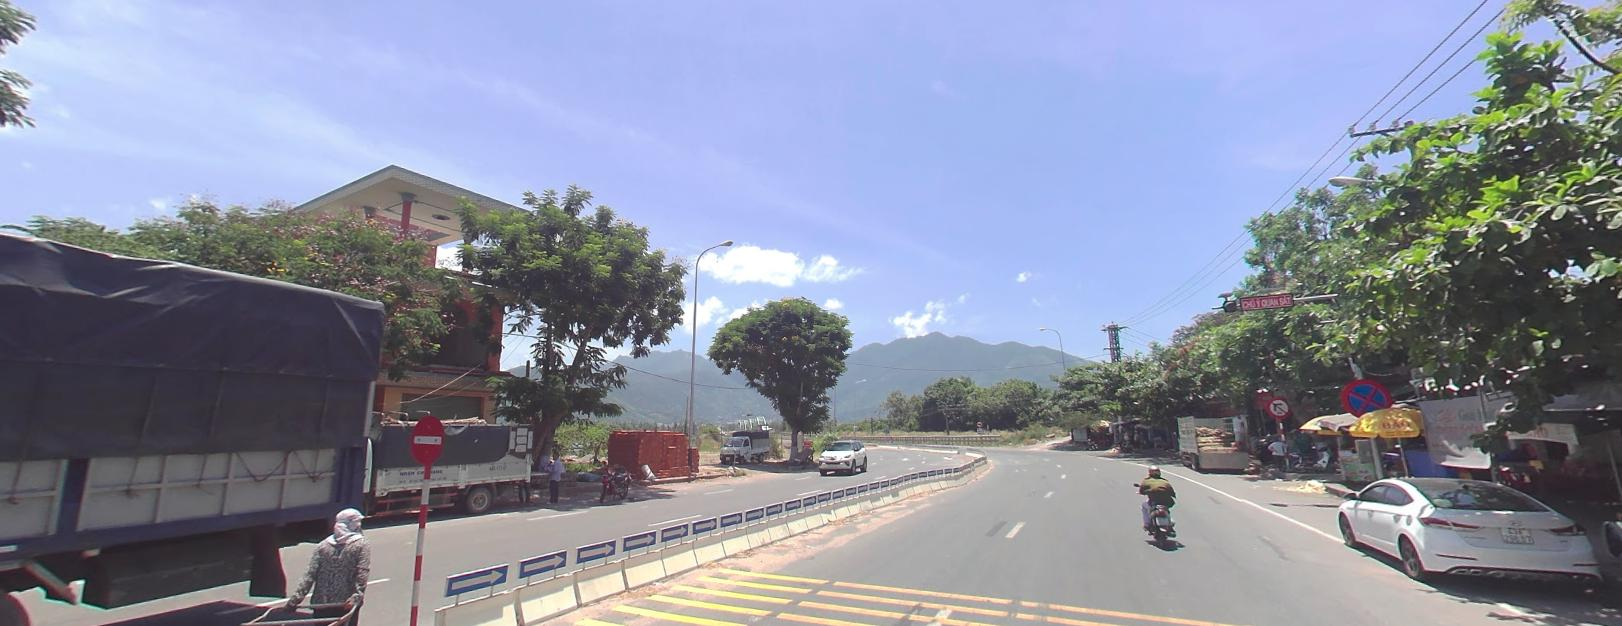Cam con lai: (977, 420, 982, 425)
Cam dung va do: (1340, 377, 1396, 421)
Cam nguoc chieu: (403, 412, 454, 465)
Cam re: (1266, 395, 1291, 417)
